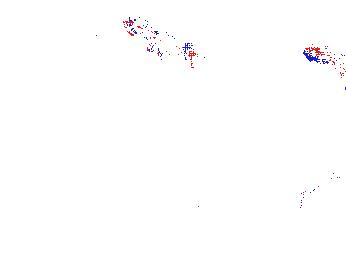glassfish: (280, 170, 346, 211)
redtail glassfish: (119, 15, 198, 71), (301, 45, 346, 73)
